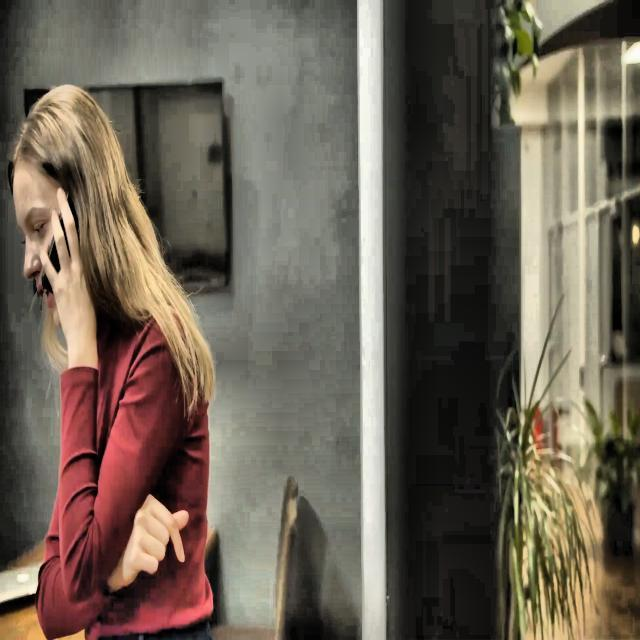Phone: (40, 189, 82, 294)
